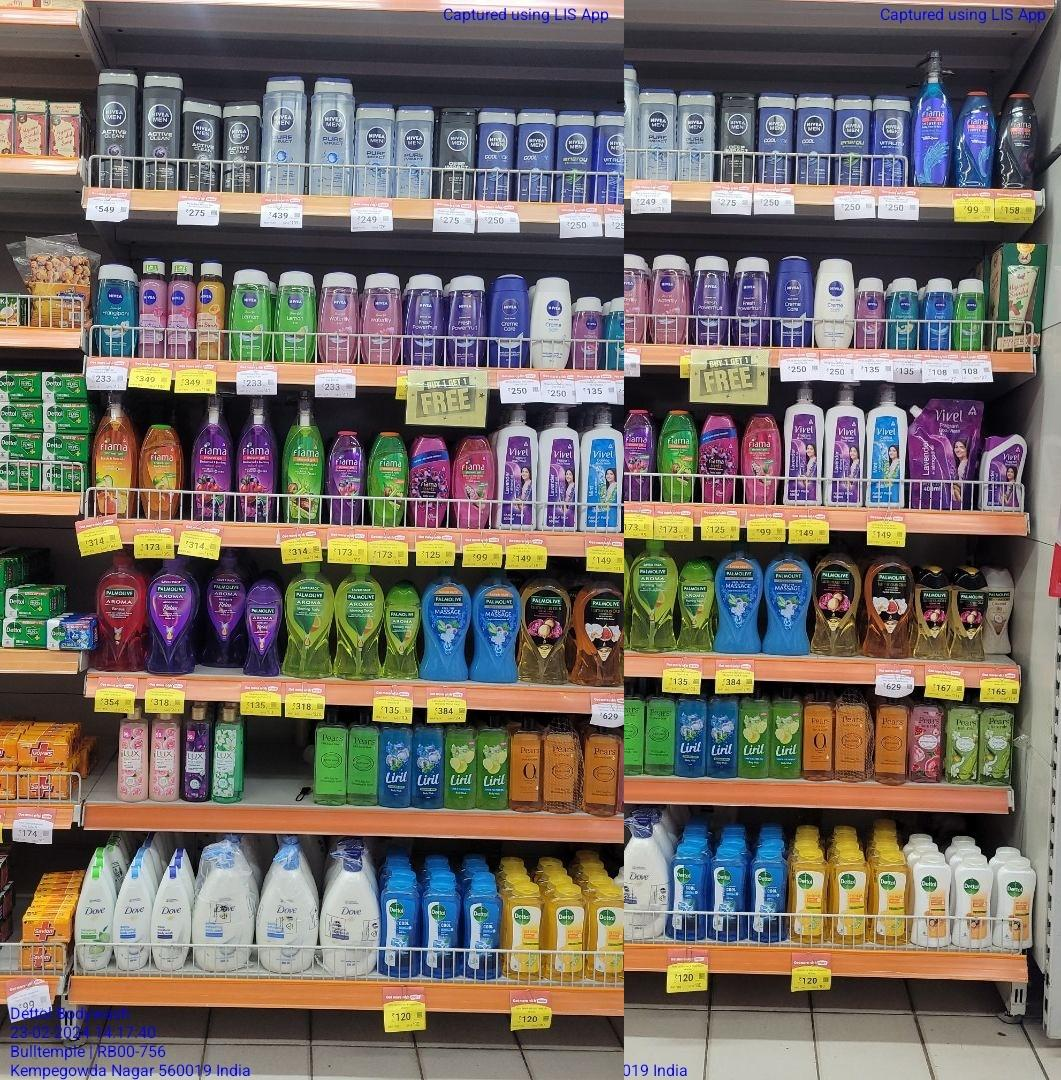Dettol_Bodywash_Cool: (465, 875, 504, 979), (709, 845, 748, 943), (422, 879, 459, 978), (380, 878, 417, 975), (669, 843, 705, 942), (753, 847, 787, 943)
Dettol_Bodywash_Refresh: (830, 849, 870, 945), (789, 848, 828, 946), (586, 887, 624, 984), (546, 887, 584, 982), (873, 854, 911, 946), (510, 883, 542, 983)
Dettol_Nourish_Body_Wash_250ML: (912, 854, 951, 946), (995, 859, 1034, 948), (956, 856, 993, 948)
Dove_Deep_Moisture_Body_Wash_250ML: (154, 867, 190, 972)
Dove_Gentle_Exfoliating_Body_Wash_250ML: (114, 865, 147, 971)
Dove_Refreshing_Body_Wash_250ML: (75, 866, 112, 970)
Fiama_Shower_Gel_Lemongrass_and_Jojoba_250ML: (659, 408, 696, 505), (370, 431, 403, 525)
Fiama_Shower_Gel_Patchouli_and_Macadamia_250ML: (452, 431, 492, 530), (742, 413, 779, 504)
Fiama_Shower_Gel_Peach_and_Avocado_250ML: (141, 422, 178, 523)
Liril_Cooling_Mint_Body_Wash_250ML: (411, 718, 443, 809), (379, 719, 410, 807), (676, 691, 707, 778), (708, 687, 736, 778)
Liril_Lime_and_Tea_Tree_Oil_Body_Wash_250ML: (477, 712, 508, 811), (769, 687, 802, 779), (444, 721, 477, 811), (739, 689, 767, 778)
Lux_Black_Orchid_Scent_and_Juniper_Oil_Body_Wash_245ML: (186, 707, 208, 801)
Lux_Body_Wash_Skin_Detox_Freesia_Scent_and_Alove_Vera_245ML: (211, 707, 242, 804)
Nivea_Creme_Care_Body_Wash_250ML: (490, 272, 528, 367), (774, 255, 811, 347)
Nivea_Creme_Soft_Body_Wash_250ML: (529, 276, 570, 369), (816, 259, 854, 348)
Nivea_Shower_Gel_Frangipani_and_Oil_250ML: (97, 263, 137, 356)
Nivea_Shower_Gel_Fresh_Powerfruit_250ML: (404, 274, 443, 364), (733, 254, 770, 348), (692, 253, 729, 346), (449, 276, 486, 367)
Nivea_Shower_Gel_Lemon_and_Oil_250ML: (230, 267, 269, 362), (276, 270, 313, 364)
Nivea_Shower_Gel_Waterlily_and_Oil_250ML: (649, 251, 688, 345), (361, 272, 400, 364), (319, 272, 358, 364), (623, 253, 649, 344)
Palmolive_Aroma_Morning_Tonic_Shower_Gel_250ML: (383, 590, 420, 680), (678, 563, 714, 650)
Palmolive_Aroma_Relax_250ML: (245, 583, 282, 674)
Palmolive_Luminous_Oils_Invigorating_Macadamia_Oil_With_Peony_250ML: (914, 567, 949, 660), (951, 570, 986, 661)
Pears_Naturale_Aloe_Vera_Body_Wash_250ML: (945, 695, 978, 785), (981, 703, 1012, 784)
Pears_Pure_Glycerin_and_Lemon_Flower_Extracts_Body_Wash_250ML: (346, 708, 377, 804), (315, 714, 346, 806), (645, 689, 673, 777), (624, 680, 645, 778)
